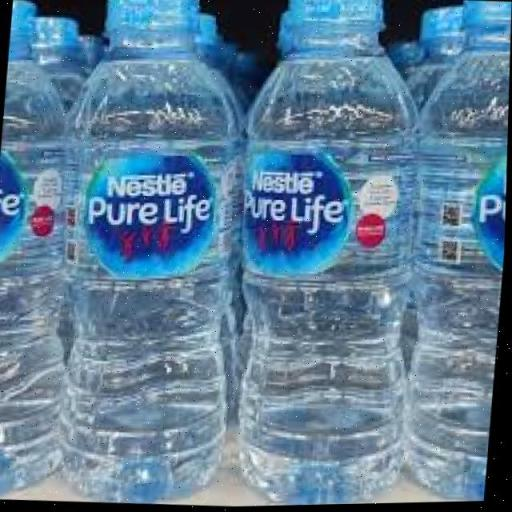plastic: (217, 0, 444, 508), (41, 0, 266, 510), (402, 0, 512, 499), (0, 0, 108, 502)
